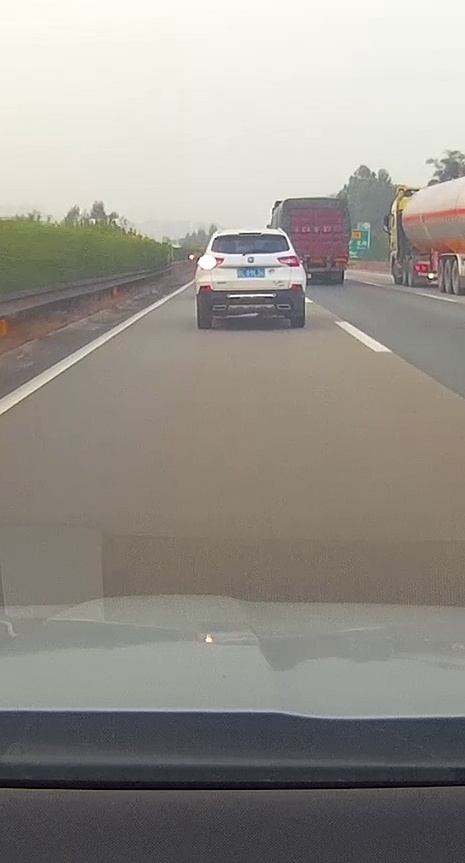L_light: (197, 256, 225, 270)
R_light: (276, 255, 300, 268)
T_light: (239, 232, 261, 236)
day-left: (195, 227, 305, 327)
